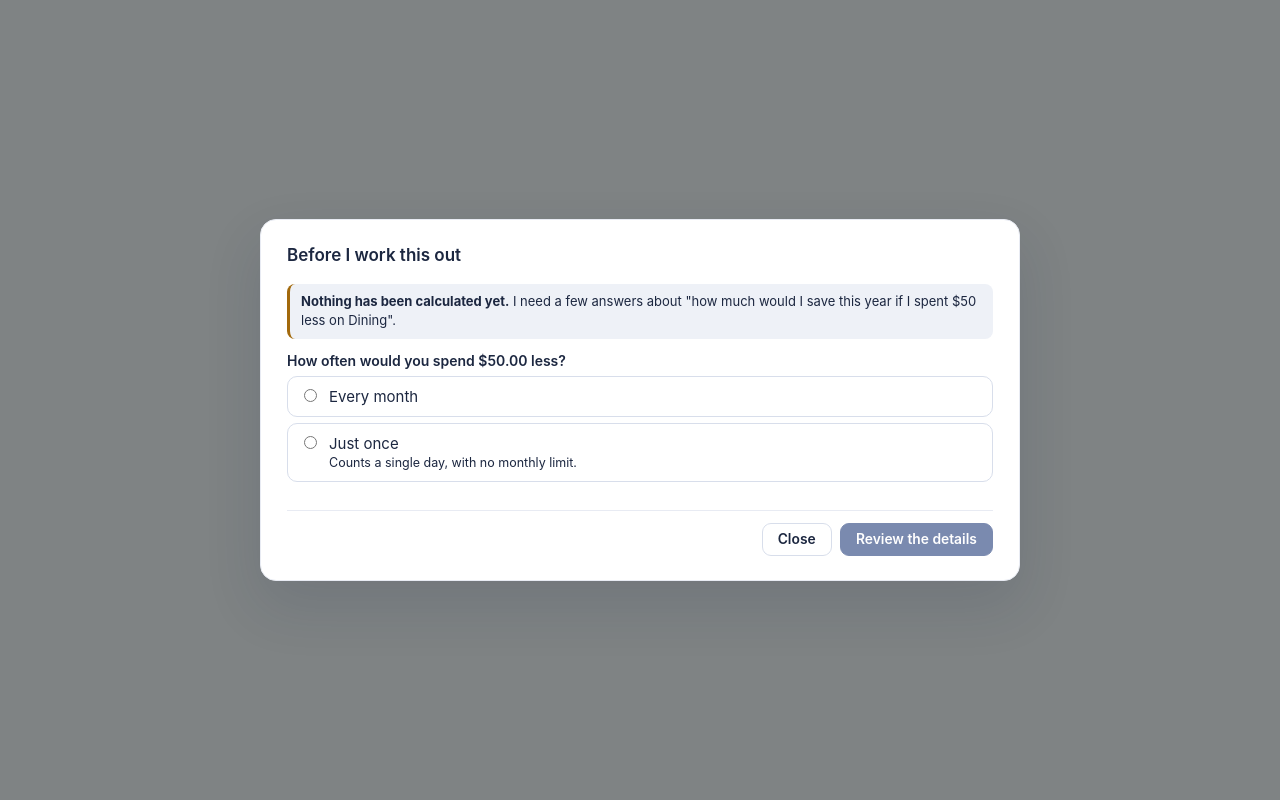
the choices screen › asks how often first, and only then the dates that follow from the answer
The image size is (1280, 800).
Click the radio button labelled "Every month". click: (310, 396)
box: top-left (304, 389), bottom-right (317, 402)
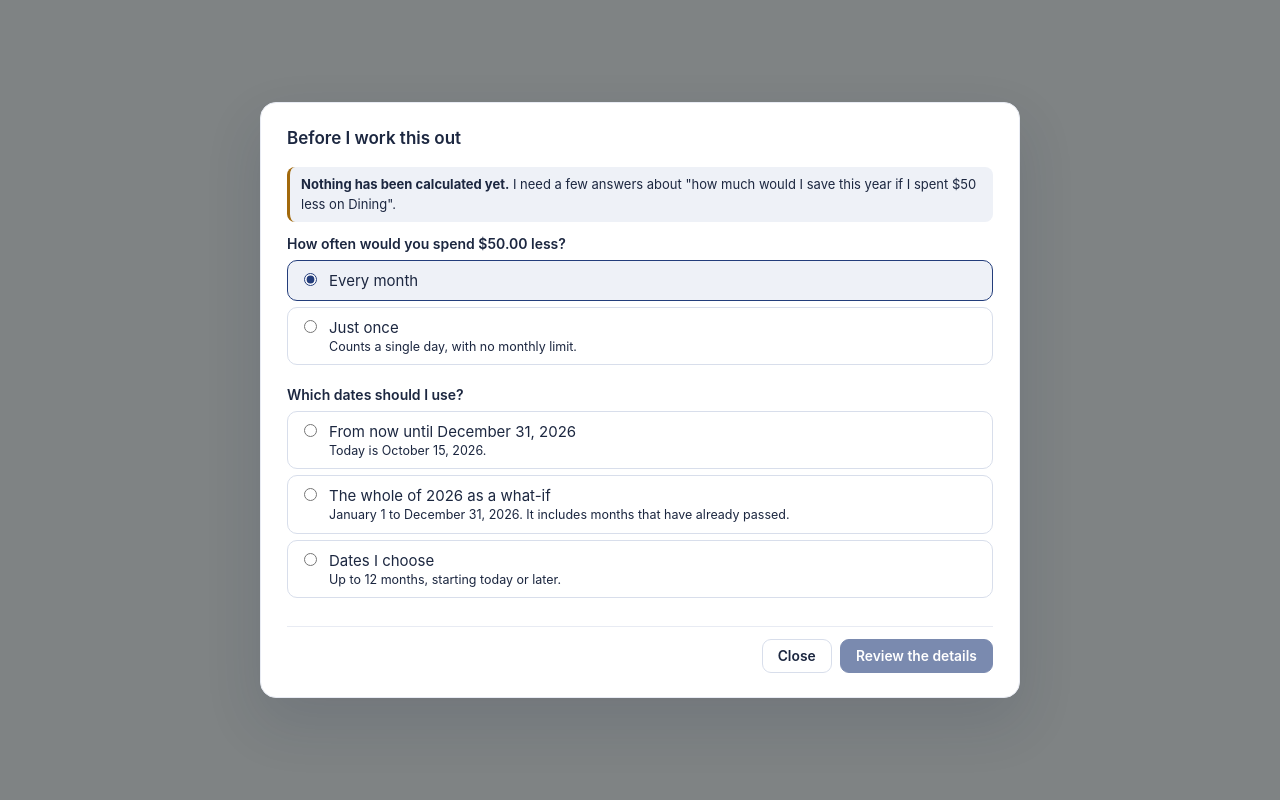
Expected: the dialog shows "Which dates should I use?", top-left (287, 386), bottom-right (464, 403)
Expected: the dialog shows "From now until December 31, 2026", top-left (329, 422), bottom-right (576, 441)
Expected: the dialog shows "The whole of 2026 as a what-if", top-left (329, 486), bottom-right (551, 505)
